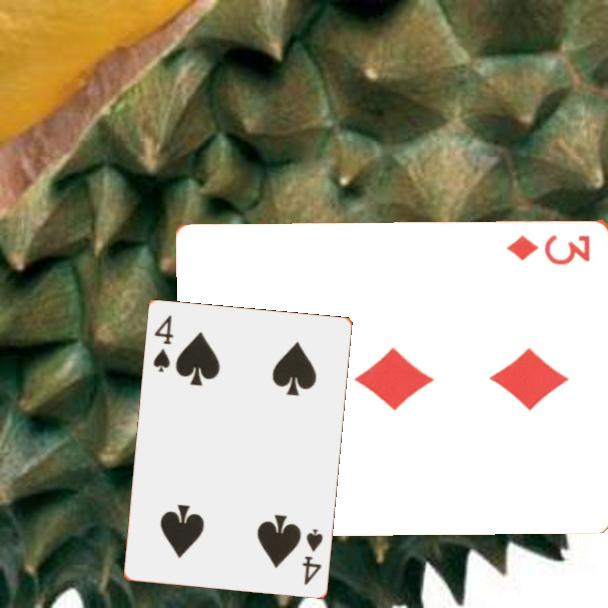d03: (504, 230, 594, 267)
s04: (150, 312, 177, 375), (299, 526, 326, 588)
